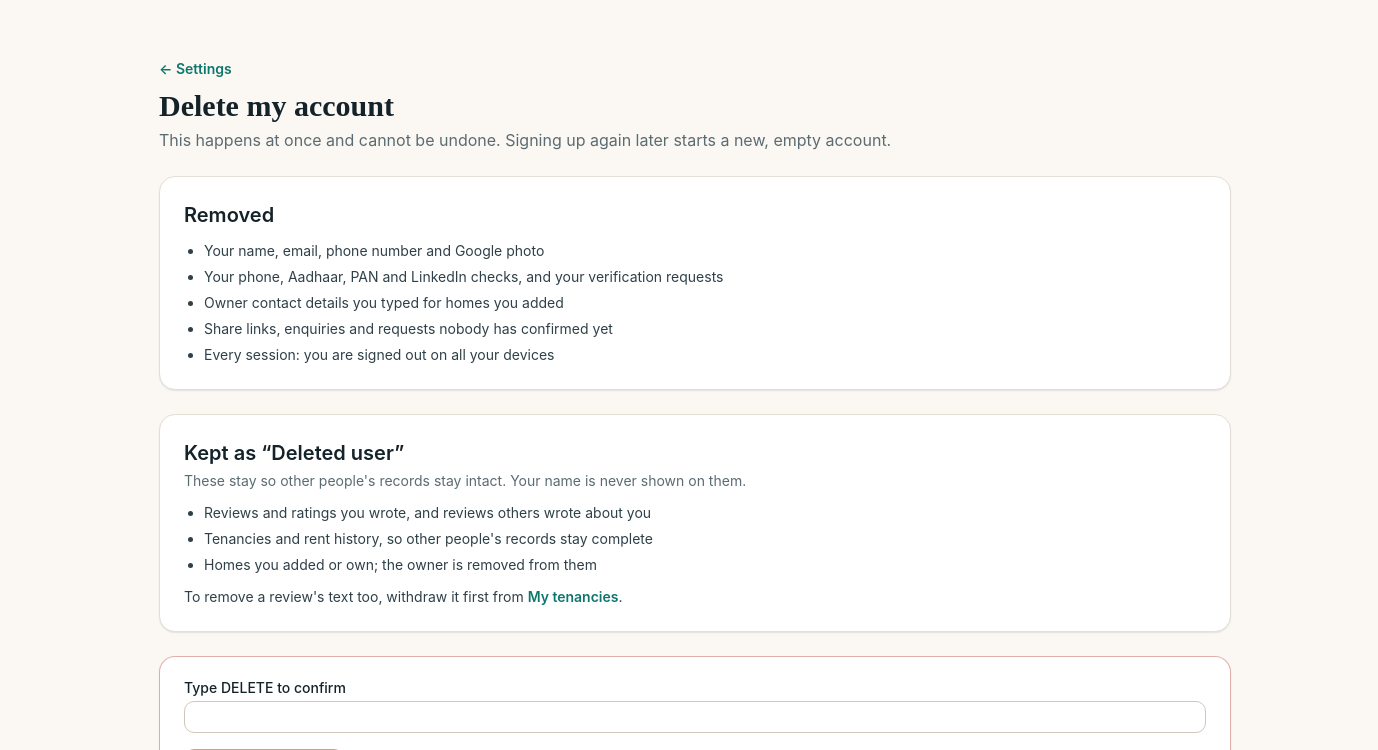
Test: DeleteAccountPage › says what is removed and kept, and deletes only once DELETE is typed
Expected: the element with test id "delete-removed" shows "phone number", [204,242,544,259]
Expected: the element with test id "delete-kept" shows "Deleted user", [184,441,404,465]
Step 1. Type "delete" into the field labelled "Type DELETE to confirm" → (695, 717), box [184,701,1206,733]
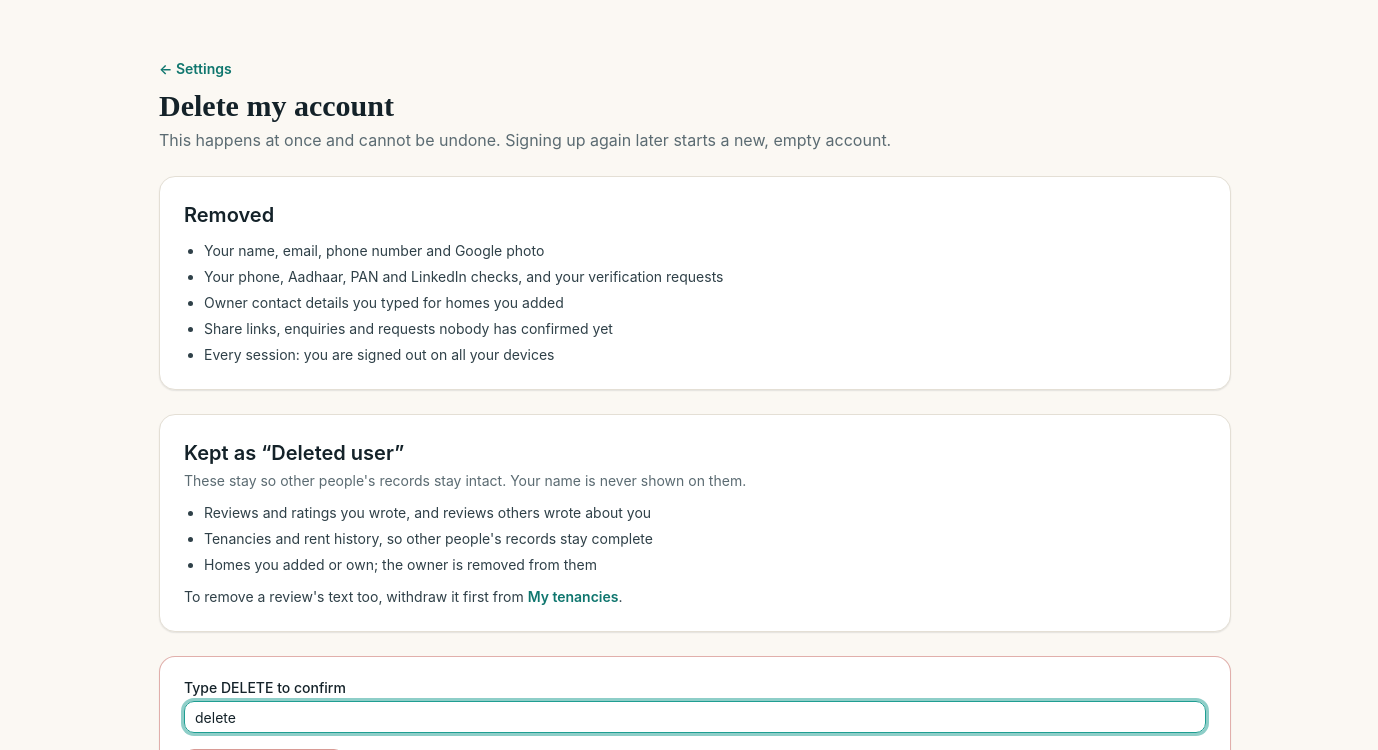
Step 2. Replace the text in the field labelled "Type DELETE to confirm" with "DELETE" → (695, 717), box [184,701,1206,733]
(page scrolled)
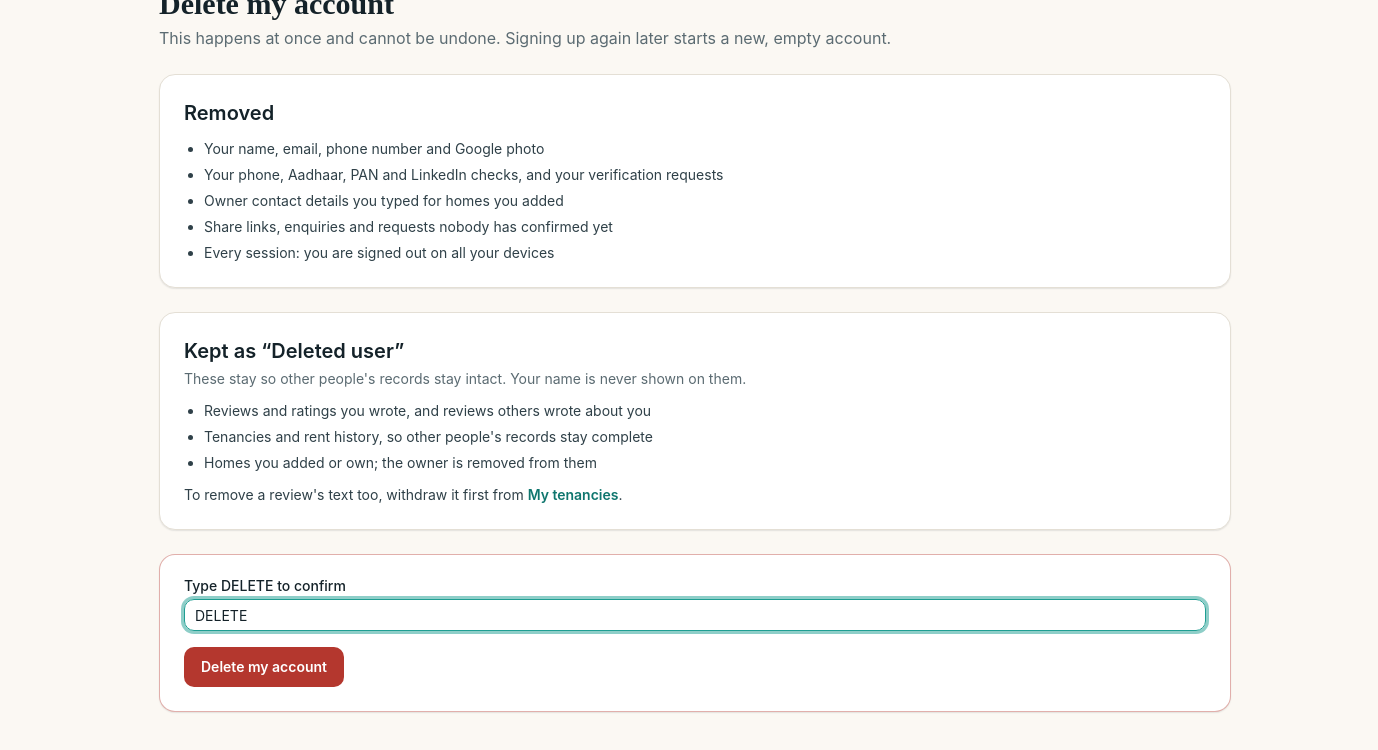
Expected: the button with test id "delete-submit" is enabled
Step 3. Click the button with test id "delete-submit" → (264, 667), box [184,647,344,687]
(page scrolled)
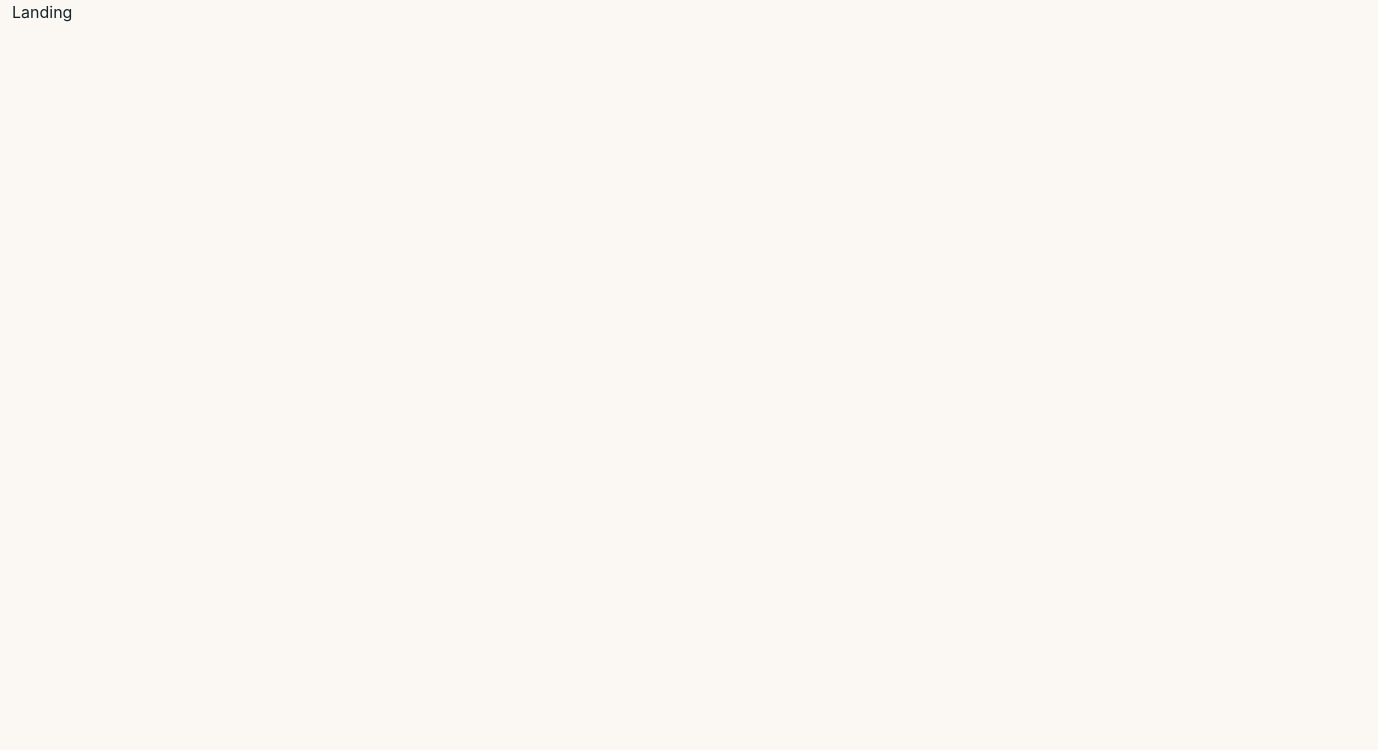
Expected: the text "Landing" is shown, [12,2,72,22]
